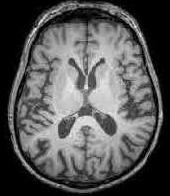Normal_Brain: (1, 1, 169, 196)
